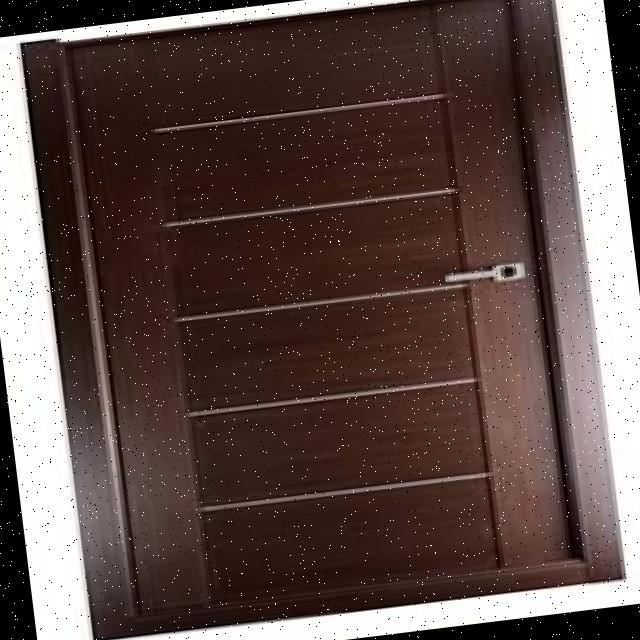Door: (16, 0, 627, 640)
